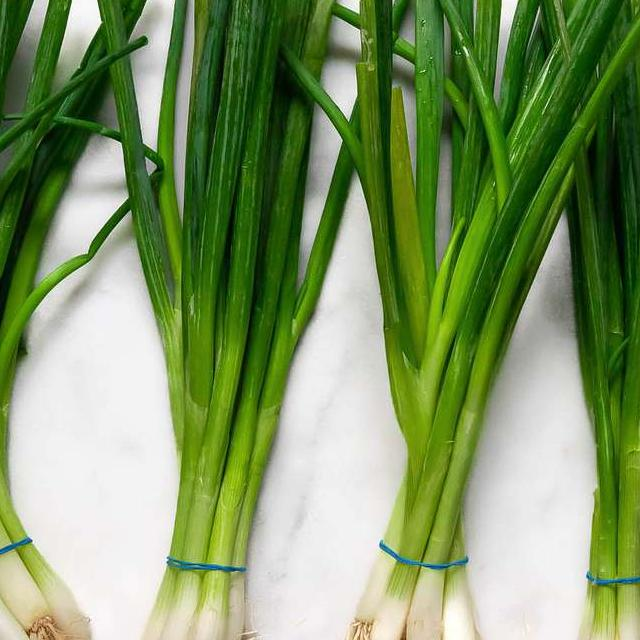green_onion: (88, 0, 363, 640), (564, 57, 640, 640)
